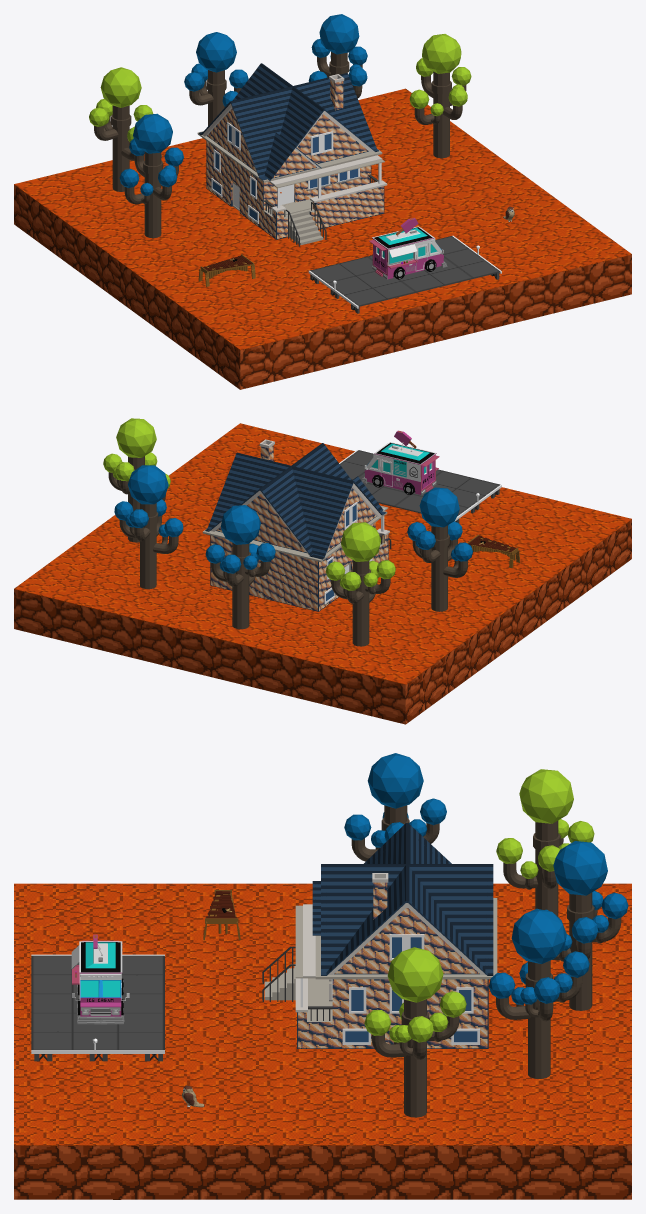
3 views of the same model, one above another, from view 1: azimuth 30°, elevation 25°; view 2: azimuth 150°, elevation 25°; view 3: azimuth 270°, elevation 25° (orthographic). The views are drawn at different scales.
Parts seen in each view (by area): view 1: Cube.001, Cube.430, VEHICLES_ICE_CREAM_TRUCK, OBJRANDOM_MARIMBA; view 2: Cube.001, Cube.430, VEHICLES_ICE_CREAM_TRUCK, OBJRANDOM_MARIMBA; view 3: Cube.001, Cube.430, VEHICLES_ICE_CREAM_TRUCK, OBJRANDOM_MARIMBA.
Boxes of the visible parts, bbox=[...] form: Cube.001: bbox=[14, 14, 631, 389]; Cube.430: bbox=[197, 63, 387, 246]; VEHICLES_ICE_CREAM_TRUCK: bbox=[369, 218, 447, 279]; OBJRANDOM_MARIMBA: bbox=[198, 254, 255, 286]; Cube.001: bbox=[14, 418, 631, 724]; Cube.430: bbox=[202, 439, 391, 611]; VEHICLES_ICE_CREAM_TRUCK: bbox=[361, 430, 439, 494]; OBJRANDOM_MARIMBA: bbox=[467, 534, 520, 568]; Cube.001: bbox=[14, 753, 631, 1199]; Cube.430: bbox=[262, 823, 497, 1048]; VEHICLES_ICE_CREAM_TRUCK: bbox=[71, 934, 129, 1024]; OBJRANDOM_MARIMBA: bbox=[203, 890, 240, 940].
Size of the model in its own units: 4000 by 1637 by 4000.
Materials: 44 (5 with a texture image).
